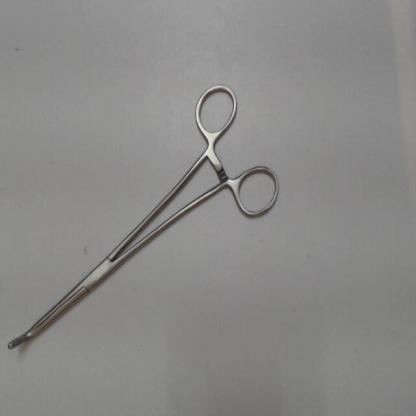Lahey Forceps: (4, 77, 286, 355)
